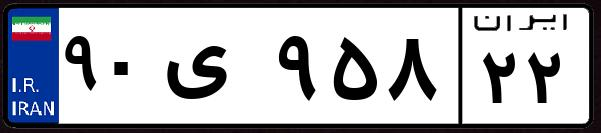0: (110, 28, 158, 98)
2: (475, 38, 525, 113), (525, 38, 570, 115)
5: (330, 28, 385, 110)
8: (385, 28, 445, 110)
9: (270, 28, 330, 110), (57, 26, 110, 100)
ی: (158, 20, 270, 120)
